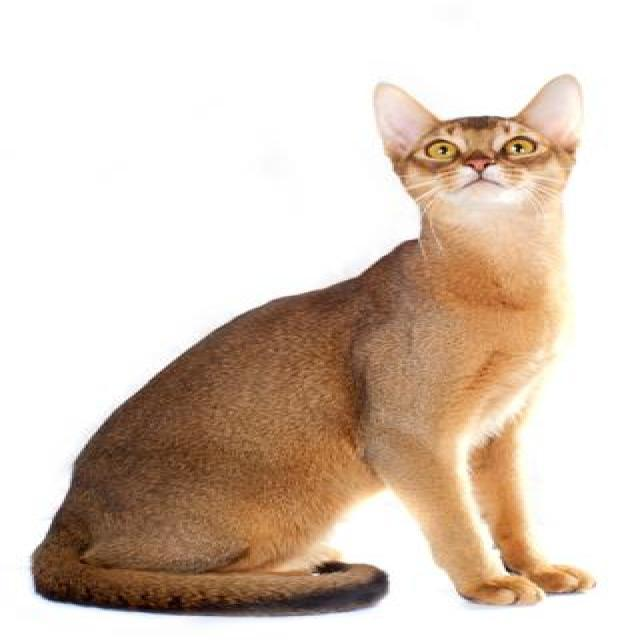Abyssinian: (366, 71, 585, 230)
